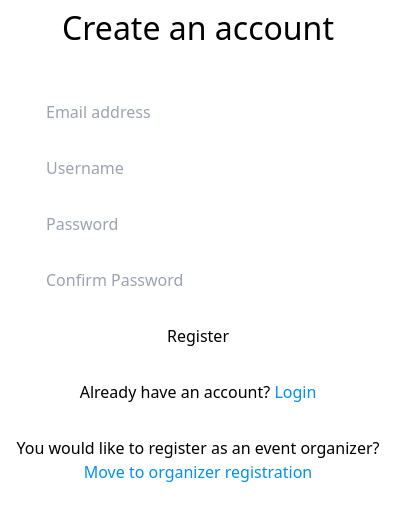
Test: RegisterForm › Validation › Empty Email address
# Input values
Type "Test" into the field with placeholder "Username" at (198, 168), box [38,148,358,188]
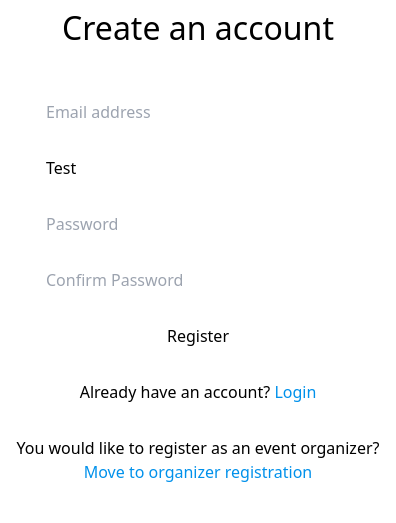
Type "abcde" into the password field with placeholder "Password" at (198, 224), box [38,204,358,244]
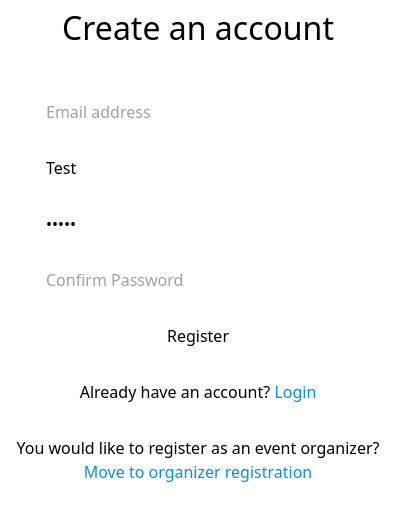
Type "abcde" into the password field with placeholder "Confirm Password" at (198, 280), box [38,260,358,300]
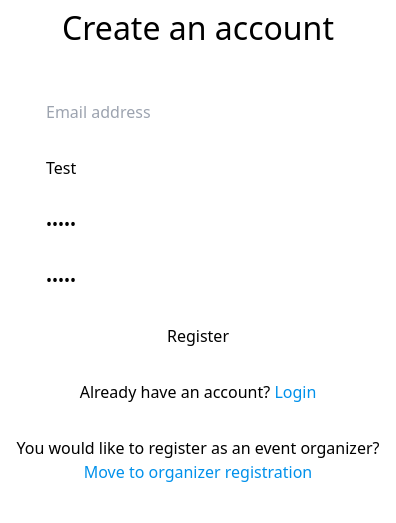
Click the button "Register" at (198, 336), box [38,316,358,356]
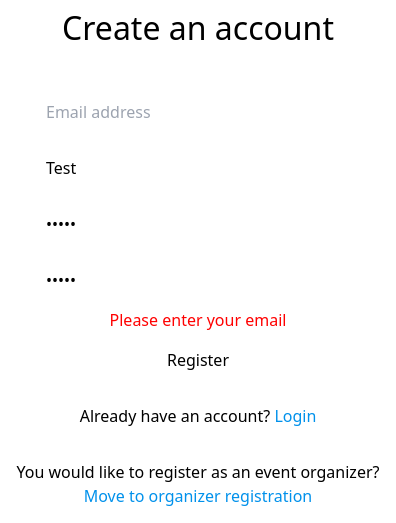
Expected: the text "Please enter your email" is shown, [110,308,286,332]
